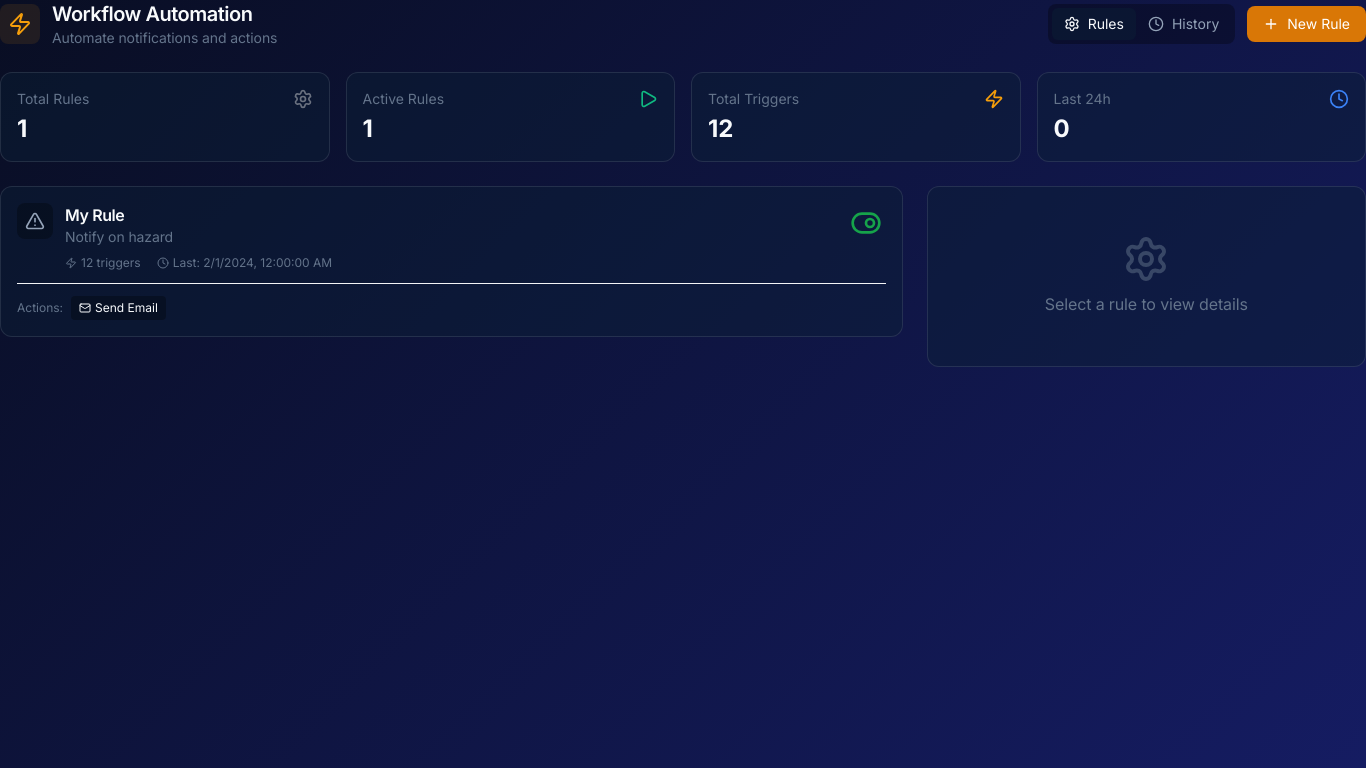
Scenario: WorkflowAutomation › rule detail panel › shows Actions section in detail panel
This screenshot has width=1366, height=768.
Click the heading "My Rule".
click(95, 215)  # box [65,205,124,225]
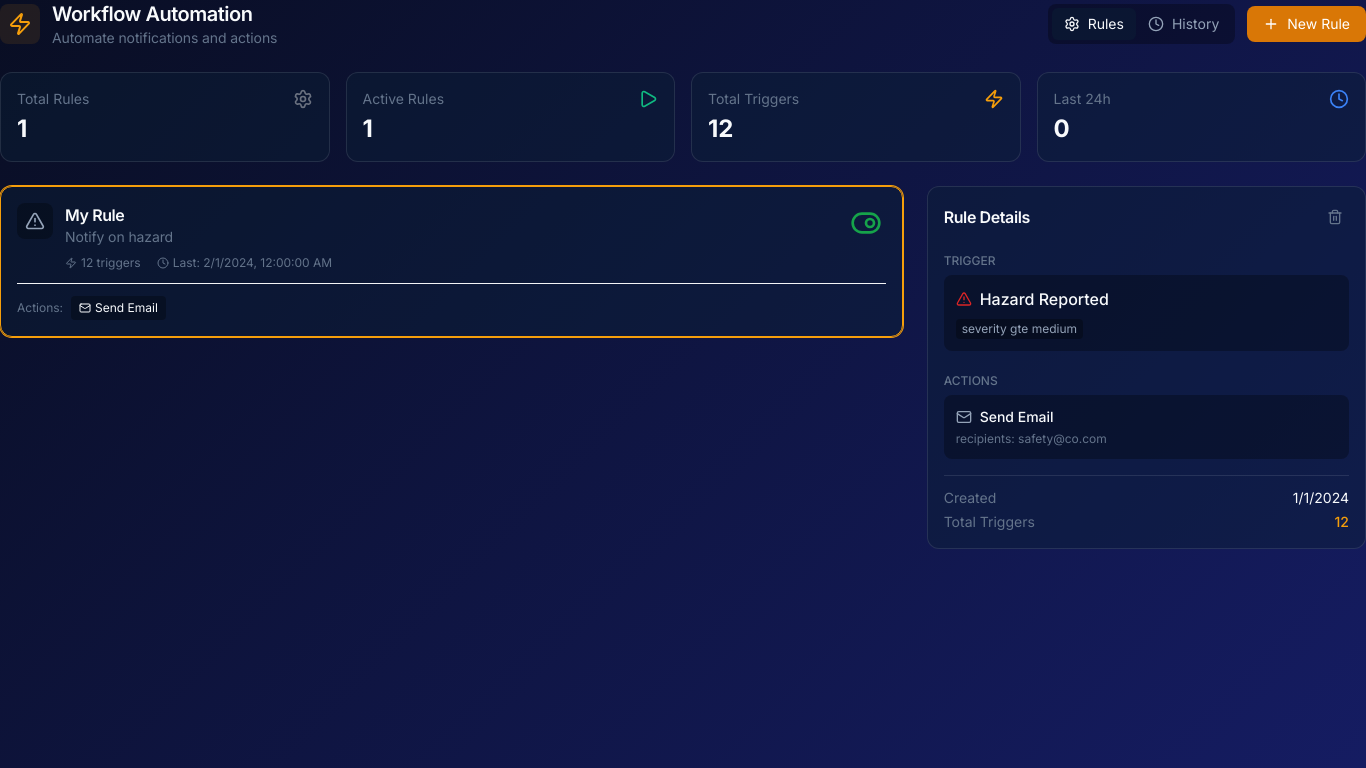
Check: the text "Actions" is shown, box [944,373,998,388]
